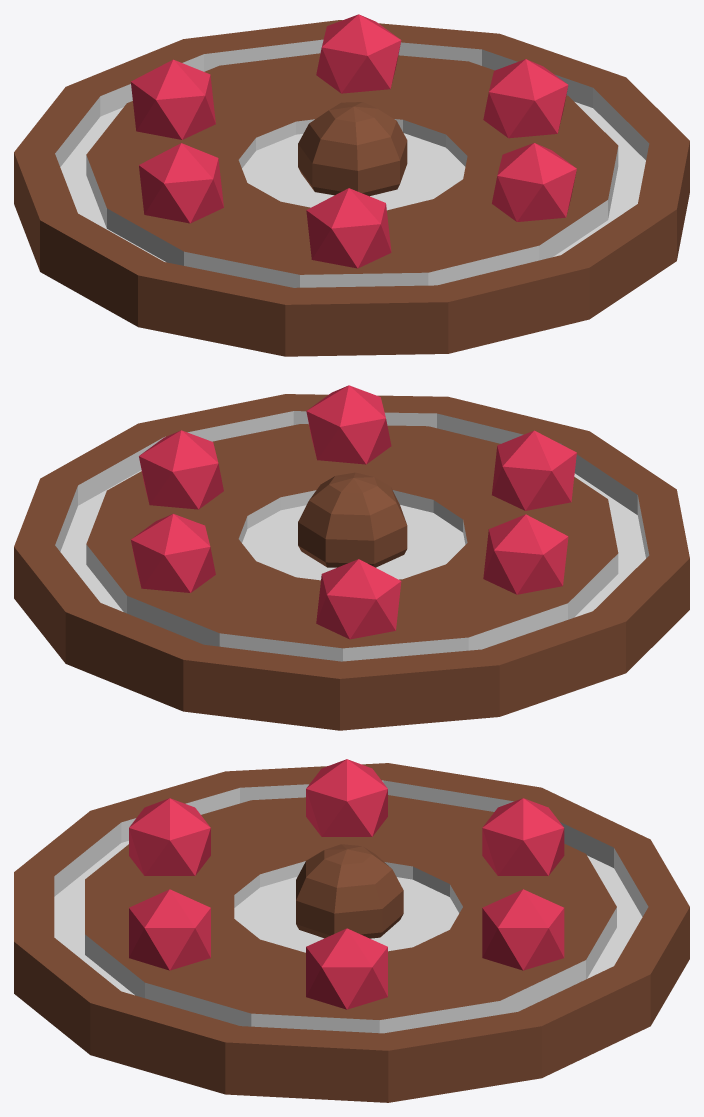
The model's file is Cookie1.fbx.
The picture shows the model from 3 angles, top to bottom: view 1: azimuth 30°, elevation 25°; view 2: azimuth 150°, elevation 25°; view 3: azimuth 270°, elevation 25°; orthographic projection.
Visible parts, largest first — view 1: Cookie1; view 2: Cookie1; view 3: Cookie1.
Boxes of the visible parts, x1=… form: Cookie1: x1=14, y1=14, x2=689, y2=356; Cookie1: x1=14, y1=385, x2=689, y2=730; Cookie1: x1=14, y1=759, x2=689, y2=1102.
Bounding box in the file's own units: 166 × 30.97 × 164.
